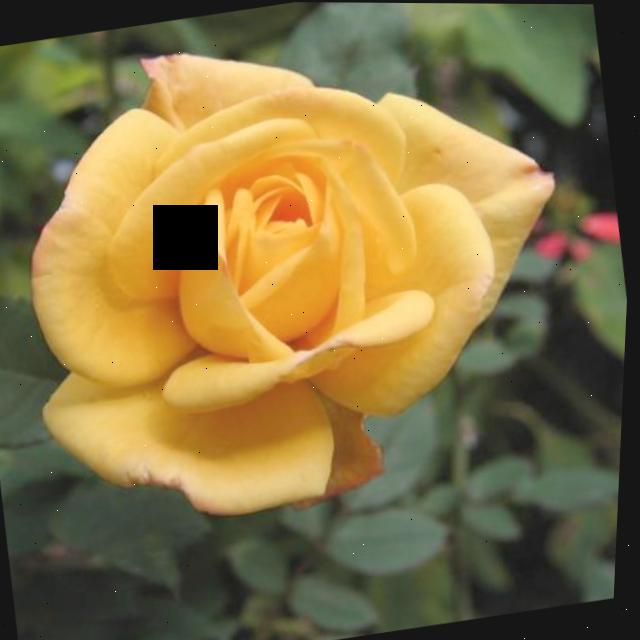rose: (0, 1, 618, 570)
